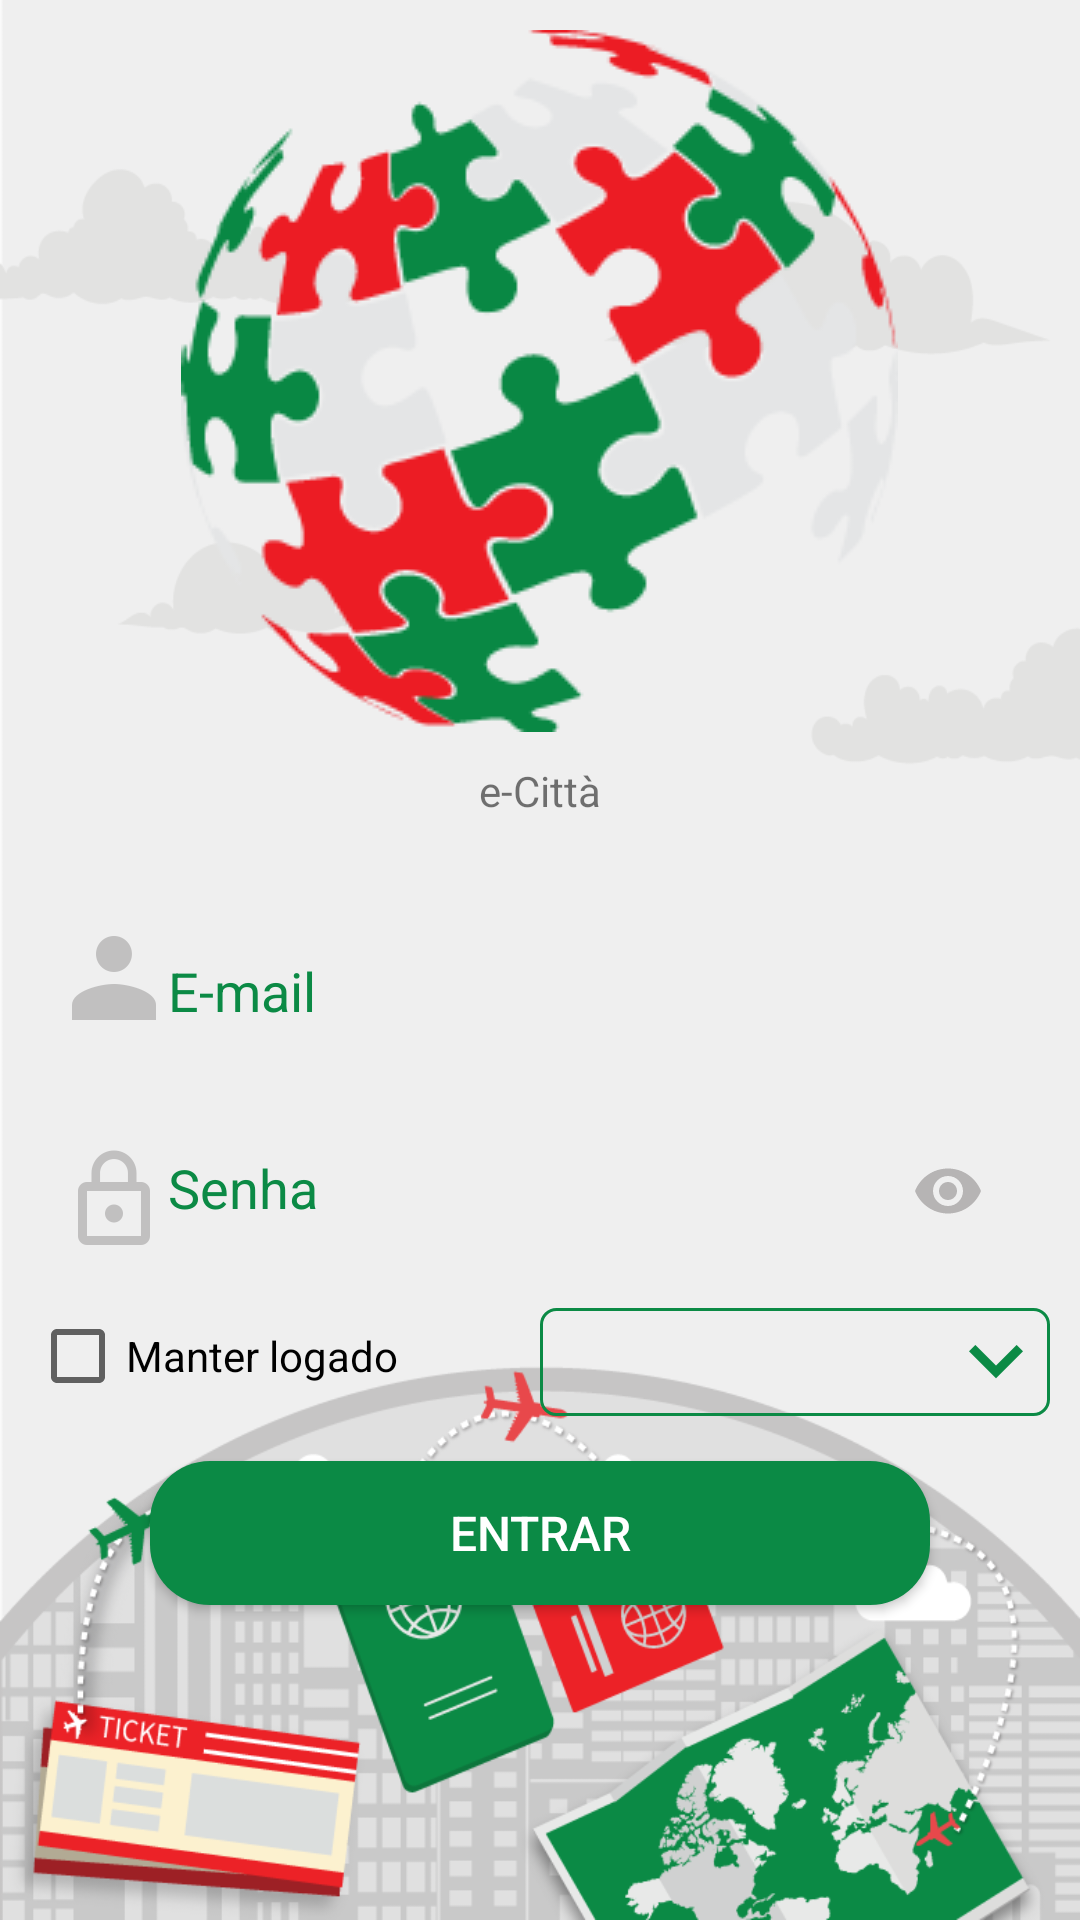

Locate icon controls on the screen. Image size 1080w x 1920h, boxes as (x1, y1, x2, y2).
lock: (78, 1151, 150, 1245)
person: (72, 936, 156, 1020)
